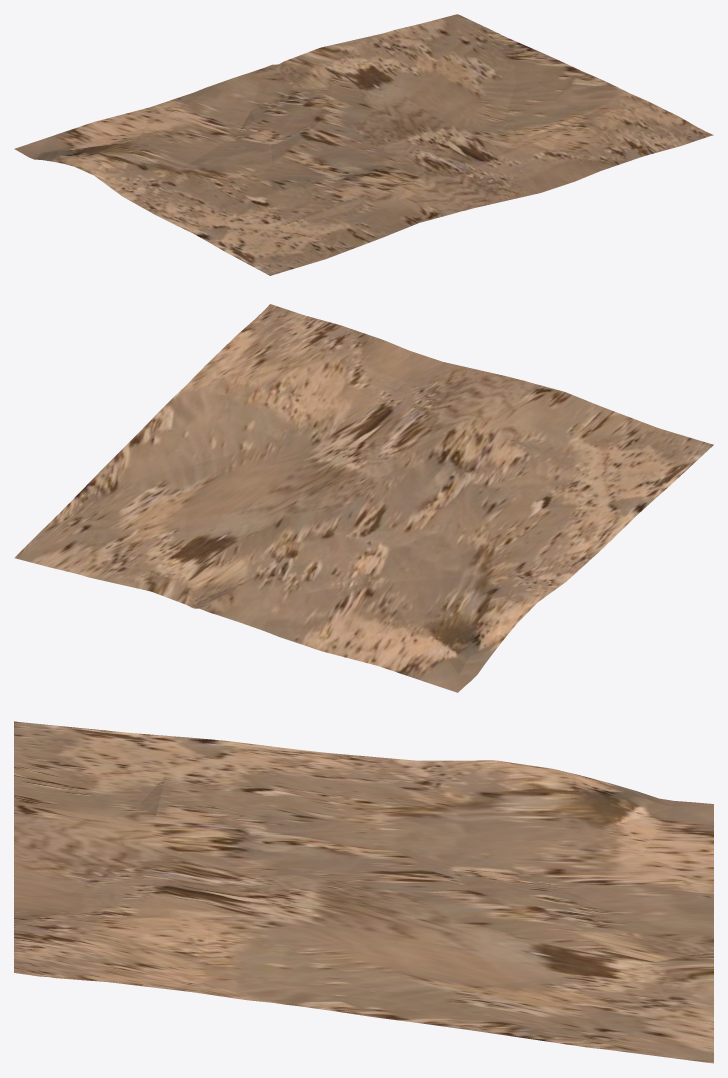
3 renders of one model, top to bottom at view 1: azimuth 30°, elevation 25°; view 2: azimuth 150°, elevation 25°; view 3: azimuth 270°, elevation 25°, orthographic. The views are drawn at different scales.
Size of the model in its own units: 2.09 by 0.4184 by 2.09.
Materials: 3 (3 with a texture image).
